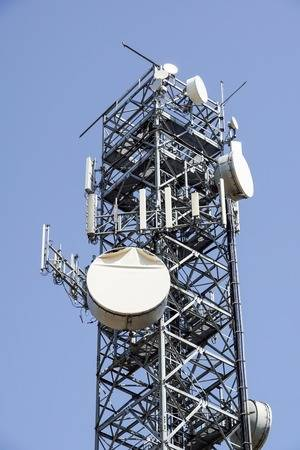a: (86, 193, 96, 233), (39, 224, 47, 272), (138, 187, 147, 229), (164, 186, 172, 229), (190, 192, 201, 217), (85, 157, 92, 188)
b: (83, 246, 169, 330), (245, 399, 273, 448), (224, 154, 254, 196), (185, 75, 207, 104)
